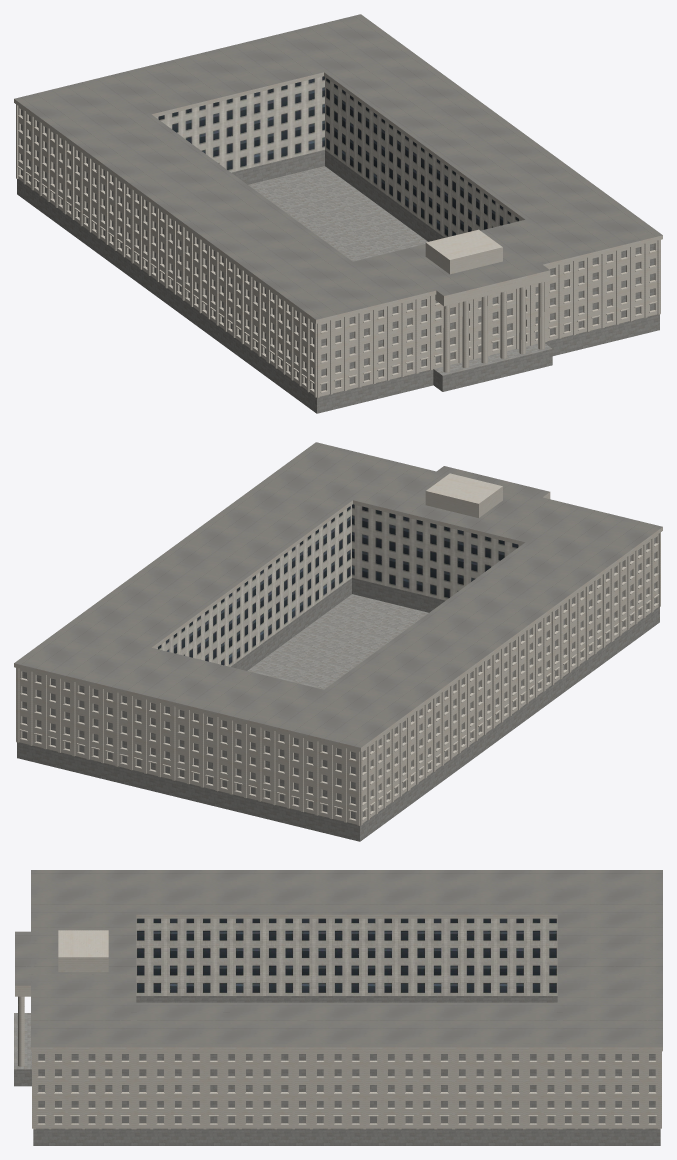
The model's file is dirksen_hart.glb.
The picture shows the model from 3 angles, top to bottom: view 1: azimuth 30°, elevation 25°; view 2: azimuth 150°, elevation 25°; view 3: azimuth 270°, elevation 25°; orthographic projection. The views are drawn at different scales.
Visible parts, largest first — view 1: dirksen_hart; view 2: dirksen_hart; view 3: dirksen_hart.
Boxes of the visible parts, x1,y1,x2,y2 form: dirksen_hart: (14, 14, 662, 413); dirksen_hart: (14, 442, 662, 841); dirksen_hart: (14, 870, 662, 1145).
Bounding box in the file's own units: 91.5 × 27.59 × 142.
Materials: 4 (4 with a texture image).
